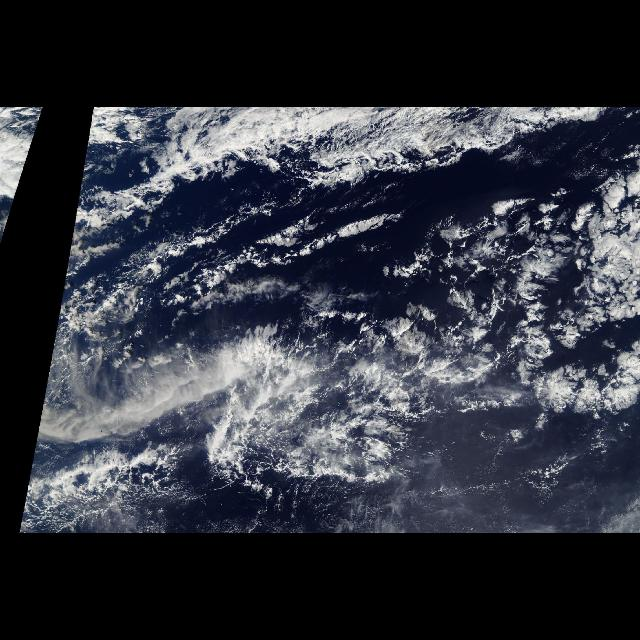Fish: (18, 452, 194, 528)
Flower: (343, 186, 639, 430)
Gravel: (46, 435, 240, 533)
